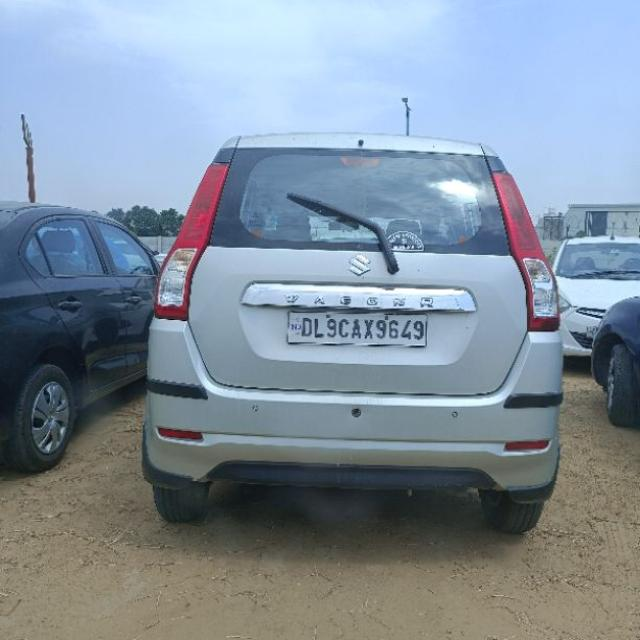license_plate: (284, 309, 428, 347)
